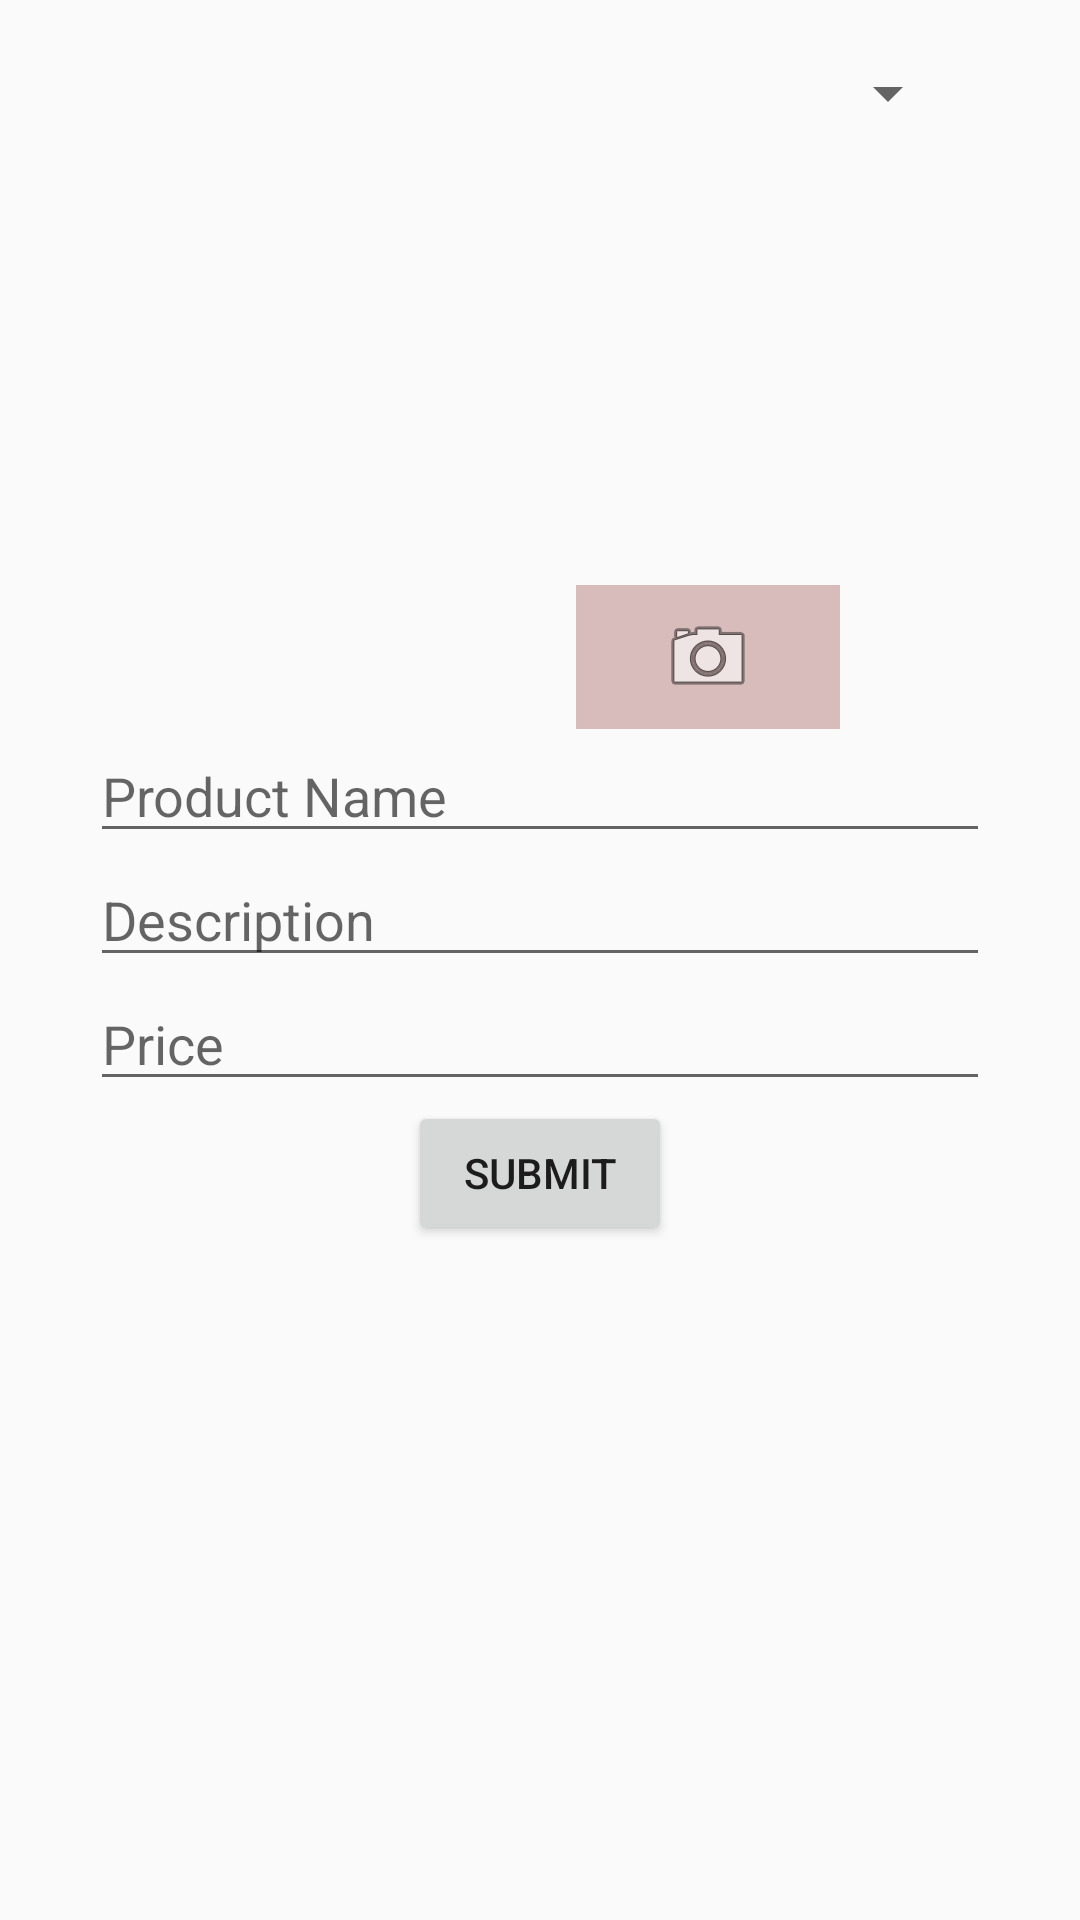

Named icons in this screenshot (1080w x 1920h) and their bounding boxes, Rect(x1, y1, x2, y2):
camera: Rect(576, 585, 840, 729)
